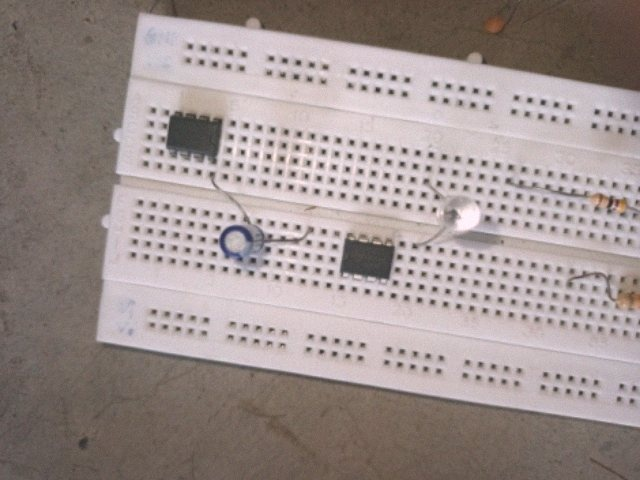capacitor: (220, 223, 267, 258)
resistor: (586, 192, 630, 214)
